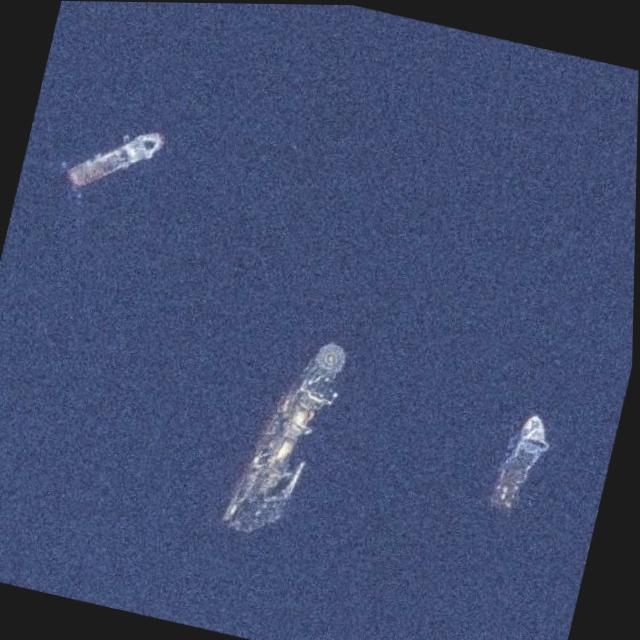ship2: (221, 342, 349, 534), (489, 414, 551, 513), (64, 131, 165, 190)
